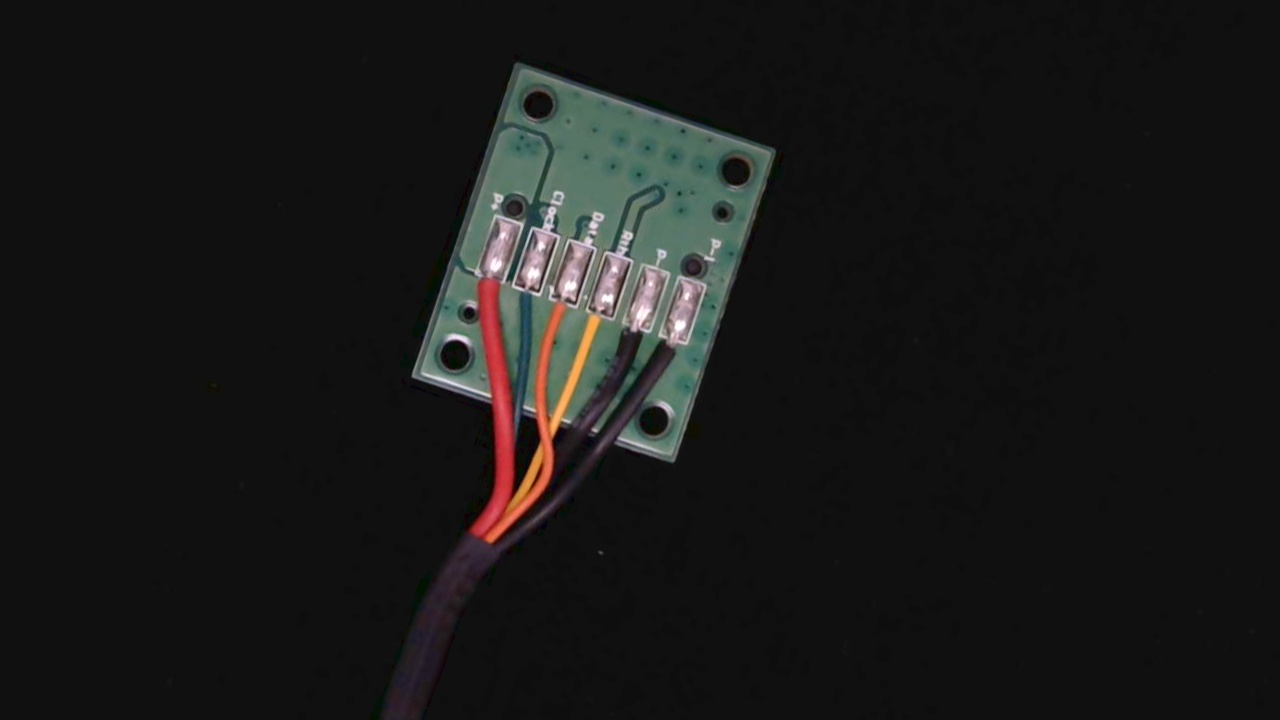Black: (607, 306, 654, 369)
Black1: (642, 320, 690, 388)
Green: (497, 265, 546, 334)
Orange: (530, 279, 581, 352)
Red: (462, 253, 510, 317)
Yellow: (569, 292, 617, 362)
